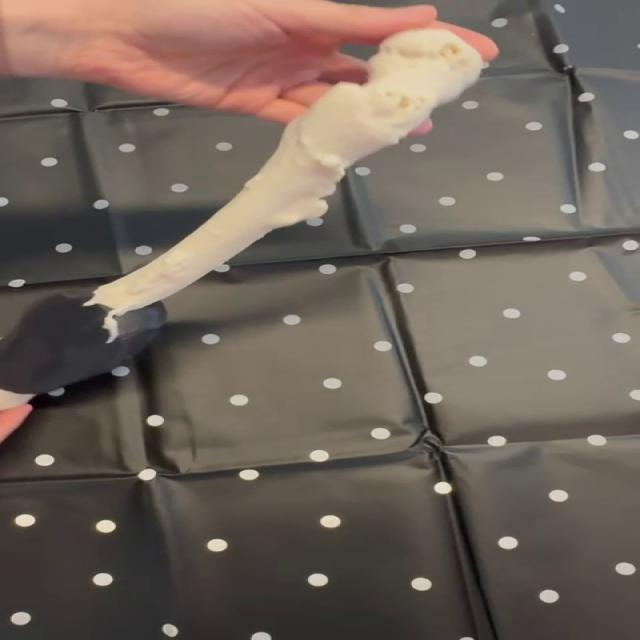bones: (0, 28, 482, 409)
